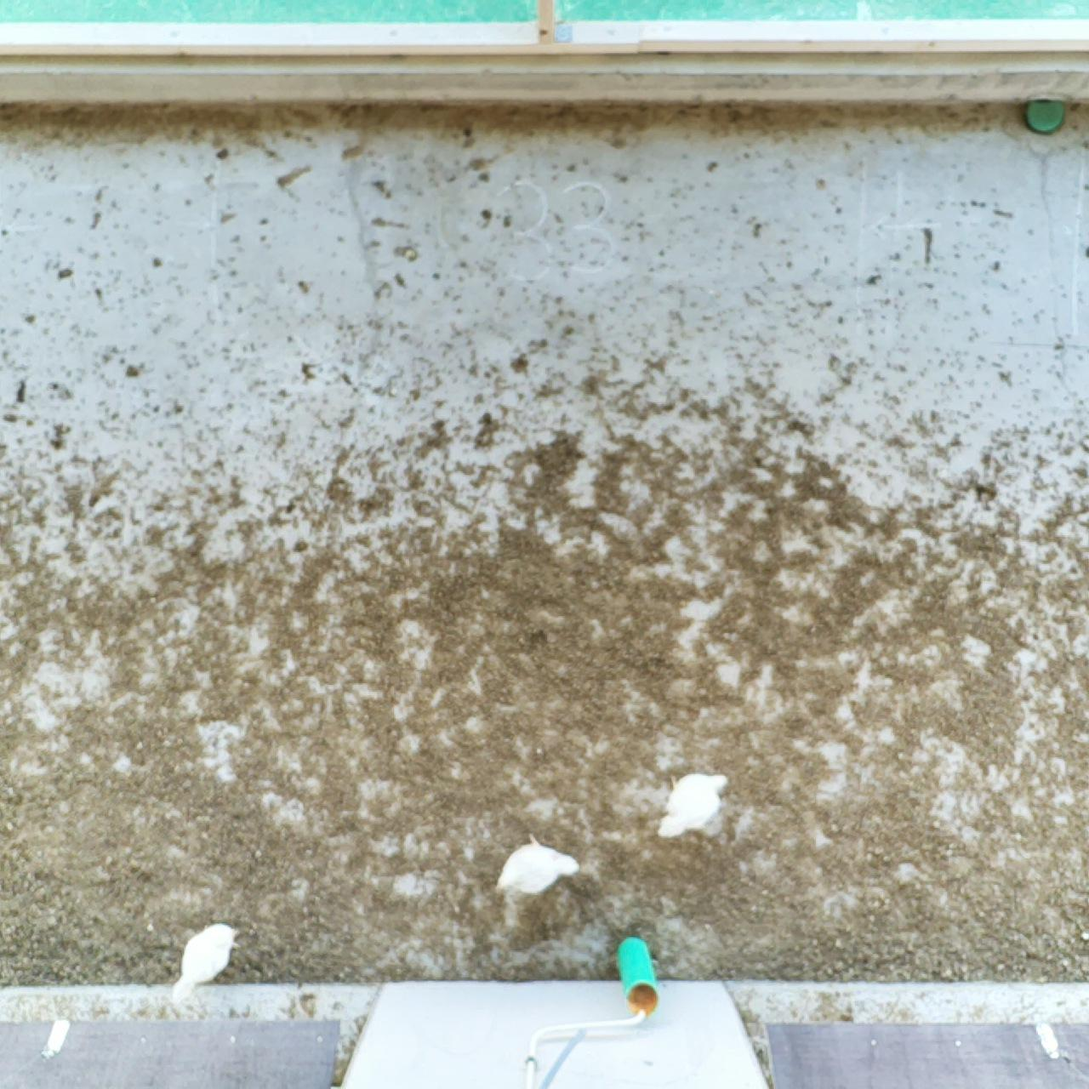chicken: (164, 919, 247, 1011), (493, 827, 584, 904), (653, 763, 733, 845)
